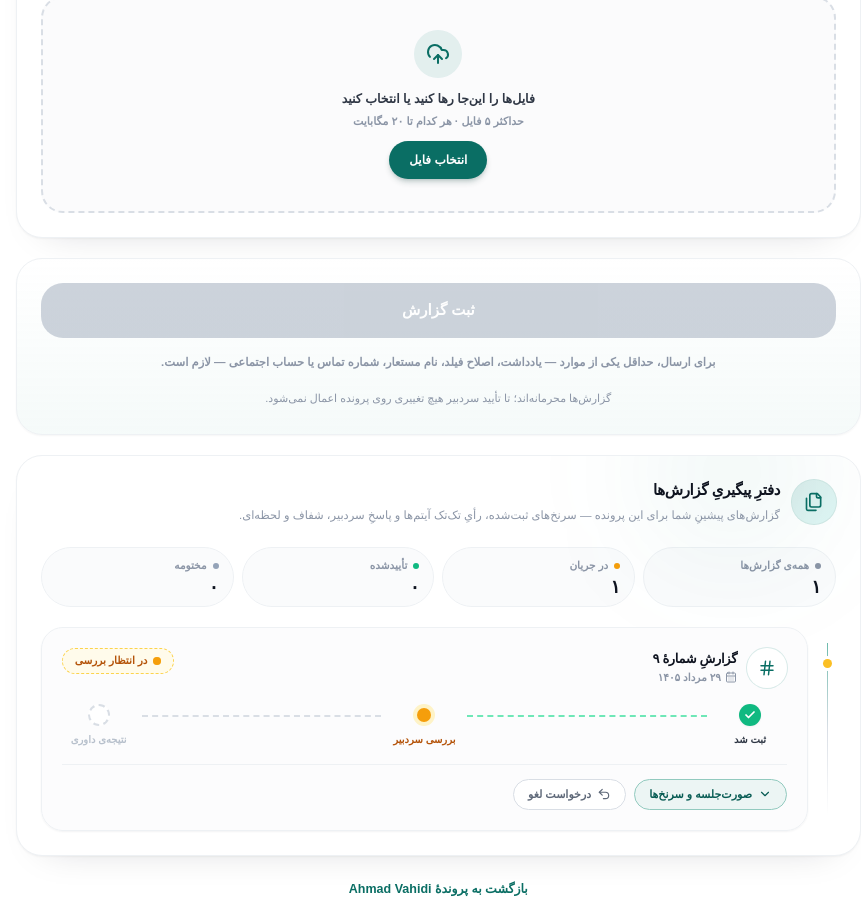
Test: ReportPanel — دفترِ پیگیریِ گزارش‌ها › خطای صورت‌جلسه → پیام + «دوباره تلاش کنید» داخل همان بازشو
(page scrolled)
Check: the heading "گزارشِ شمارهٔ ۹" is shown, box [652,651,737,668]
Click the button "صورت‌جلسه و سرنخ‌ها" at point(711, 794), box [634,779,787,810]
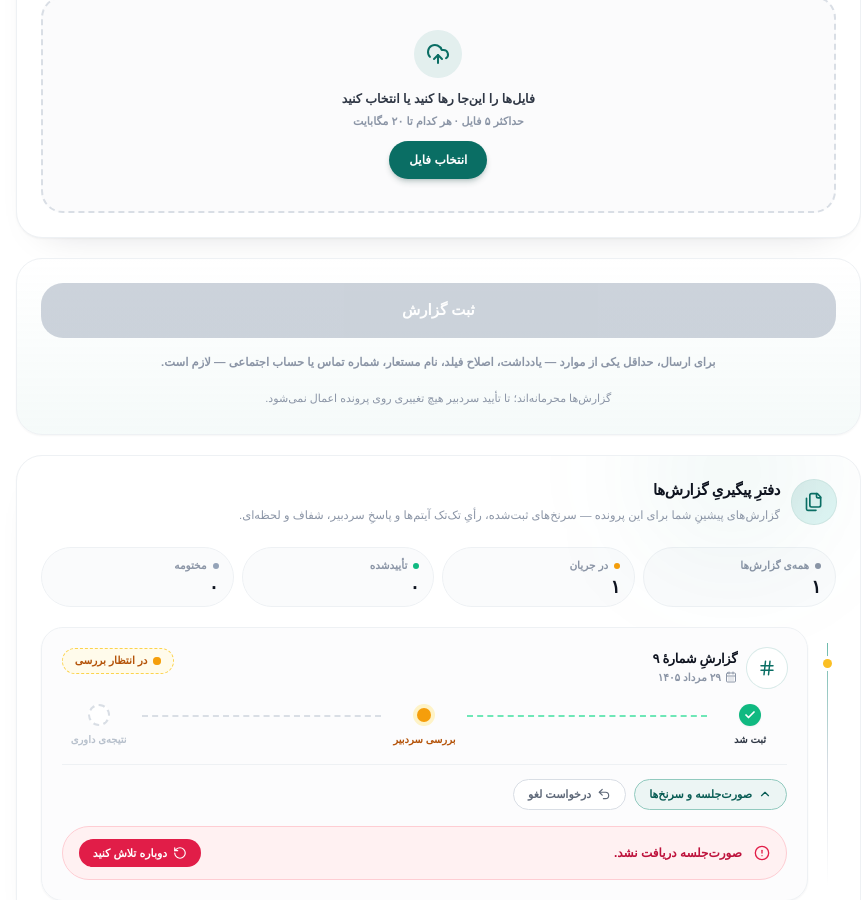
Check: the text "صورت‌جلسه دریافت نشد." is shown, box [614,844,742,862]
Check: the button "دوباره تلاش کنید" is shown, box [79,838,201,867]
